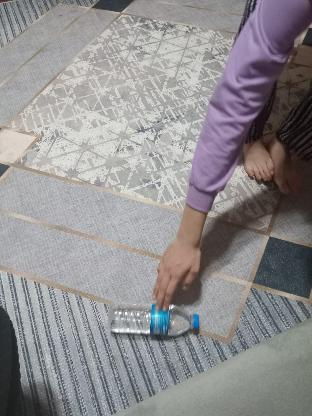Plastic Bottle: (103, 303, 205, 341)
